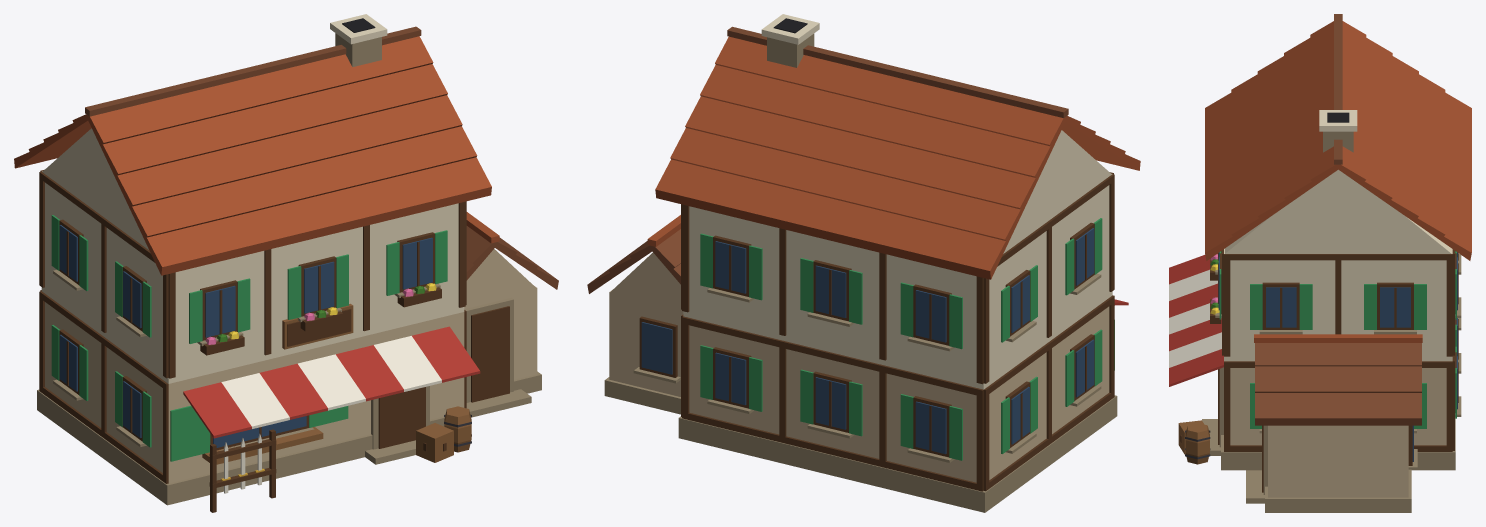
File: Shop_Weapon.fbx
3 views of the same model, side by side, from view 1: azimuth 30°, elevation 25°; view 2: azimuth 150°, elevation 25°; view 3: azimuth 270°, elevation 25° (orthographic). The views are drawn at different scales.
Parts seen in each view (by area): view 1: Shop_Weapon; view 2: Shop_Weapon; view 3: Shop_Weapon.
Part boxes in pixels (x1,y1,x2,y2): Shop_Weapon: (14,14,558,512); Shop_Weapon: (587,14,1140,512); Shop_Weapon: (1169,14,1471,512).
Size of the model in its own units: 10.06 by 8.36 by 6.89.
